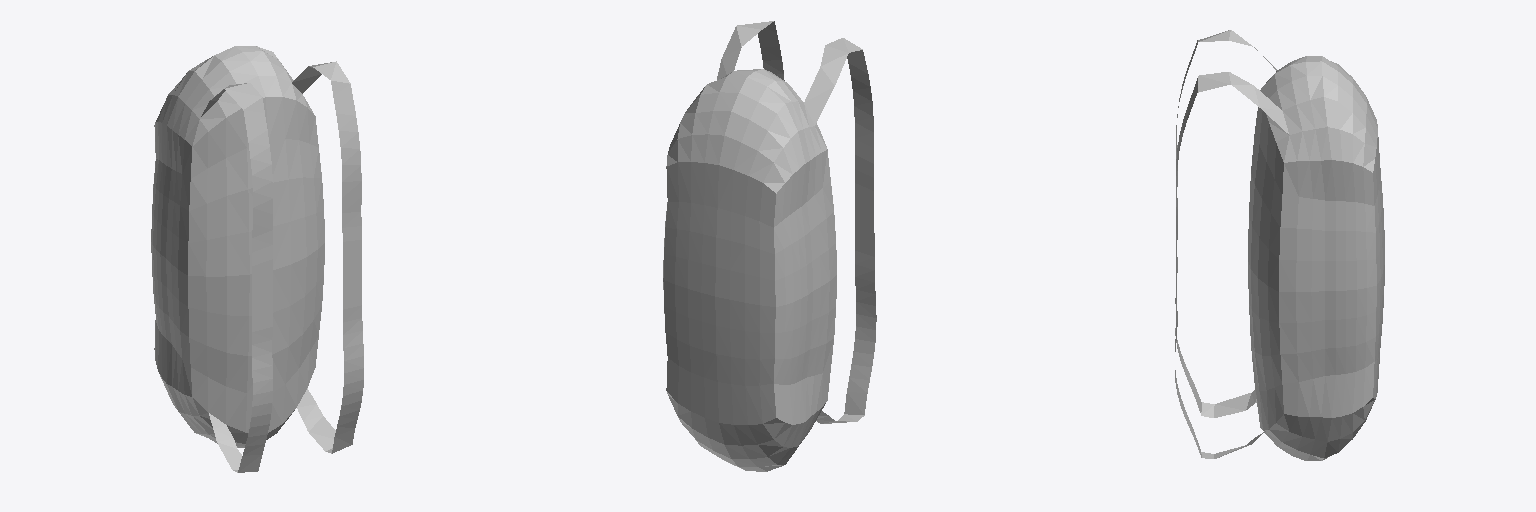
File: backpack_2.obj
3 renders of one model, left to right at view 1: azimuth 30°, elevation 25°; view 2: azimuth 150°, elevation 25°; view 3: azimuth 270°, elevation 25°, orthographic.
Parts seen in each view (by area): view 1: backpack_2; view 2: backpack_2; view 3: backpack_2.
Part boxes in pixels (x1,y1,x2,y2): backpack_2: (151,46,363,472); backpack_2: (663,21,876,471); backpack_2: (1175,30,1384,460).
Size of the model in its own units: 0.5165 by 1.41 by 0.6731.